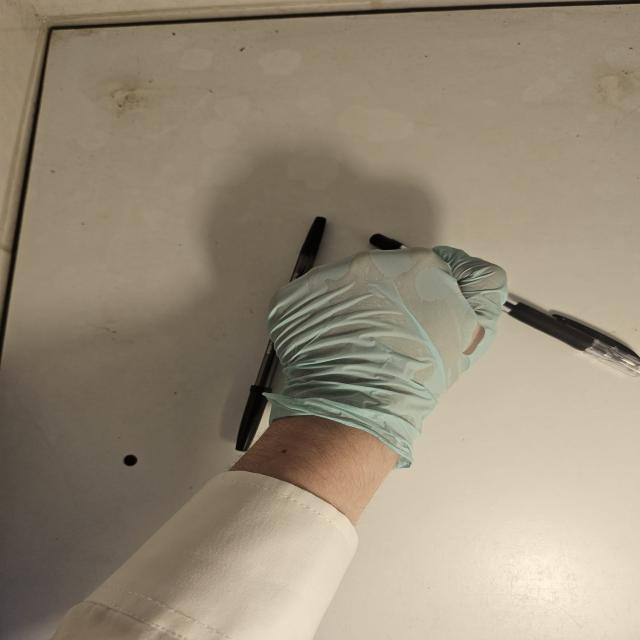gloves_damaged: (250, 236, 519, 469)
